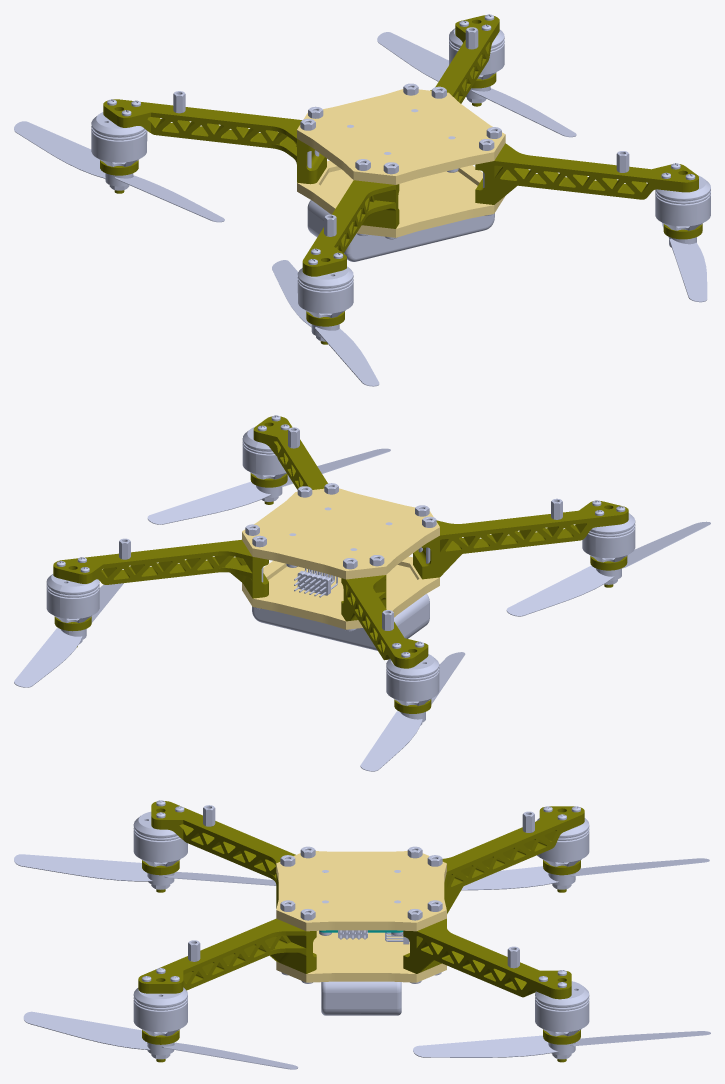
Rendered from drone_Assembly.glb.
The picture shows the model from 3 angles, top to bottom: view 1: azimuth 30°, elevation 25°; view 2: azimuth 150°, elevation 25°; view 3: azimuth 270°, elevation 25°; orthographic projection. The views are drawn at different scales.
Visible parts, largest first — view 1: empty_6, empty_18, empty_15, empty_21, empty_17, empty_56, empty_68, empty_53, empty_16, empty_61, empty_36, empty_38 (+3 smaller); view 2: empty_6, empty_17, empty_16, empty_21, empty_15, empty_61, empty_58, empty_68, empty_56, empty_18, empty_53, empty_38 (+4 smaller); view 3: empty_6, empty_18, empty_16, empty_21, empty_15, empty_17, empty_53, empty_58, empty_61, empty_68, empty_56, empty_39 (+3 smaller).
Boxes of the visible parts, x1=… form: empty_6: x1=297, y1=89, x2=505, y2=184; empty_18: x1=475, y1=143, x2=698, y2=204; empty_15: x1=103, y1=99, x2=326, y2=184; empty_21: x1=297, y1=160, x2=505, y2=237; empty_17: x1=302, y1=180, x2=399, y2=276; empty_56: x1=14, y1=121, x2=224, y2=222; empty_68: x1=307, y1=200, x2=494, y2=261; empty_53: x1=377, y1=32, x2=576, y2=137; empty_16: x1=430, y1=15, x2=499, y2=103; empty_61: x1=272, y1=260, x2=379, y2=386; empty_36: x1=297, y1=266, x2=353, y2=317; empty_38: x1=91, y1=112, x2=147, y2=166; empty_6: x1=242, y1=488, x2=439, y2=579; empty_17: x1=413, y1=501, x2=628, y2=579; empty_16: x1=53, y1=539, x2=268, y2=598; empty_21: x1=242, y1=556, x2=439, y2=629; empty_15: x1=341, y1=575, x2=428, y2=668; empty_61: x1=506, y1=521, x2=710, y2=616; empty_58: x1=147, y1=448, x2=390, y2=524; empty_68: x1=252, y1=594, x2=429, y2=650; empty_56: x1=360, y1=652, x2=465, y2=771; empty_18: x1=253, y1=416, x2=327, y2=489; empty_53: x1=14, y1=583, x2=123, y2=687; empty_38: x1=386, y1=654, x2=439, y2=705; empty_6: x1=276, y1=851, x2=446, y2=931; empty_18: x1=138, y1=918, x2=316, y2=993; empty_16: x1=403, y1=918, x2=571, y2=999; empty_21: x1=276, y1=930, x2=446, y2=982; empty_15: x1=442, y1=806, x2=584, y2=913; empty_17: x1=151, y1=801, x2=295, y2=908; empty_53: x1=413, y1=1031, x2=710, y2=1057; empty_58: x1=23, y1=1011, x2=297, y2=1069; empty_61: x1=14, y1=854, x2=276, y2=885; empty_68: x1=321, y1=981, x2=401, y2=1015; empty_56: x1=461, y1=858, x2=709, y2=890; empty_39: x1=133, y1=987, x2=187, y2=1036.
Bounding box in the file's own units: 215 × 49.5 × 295.
